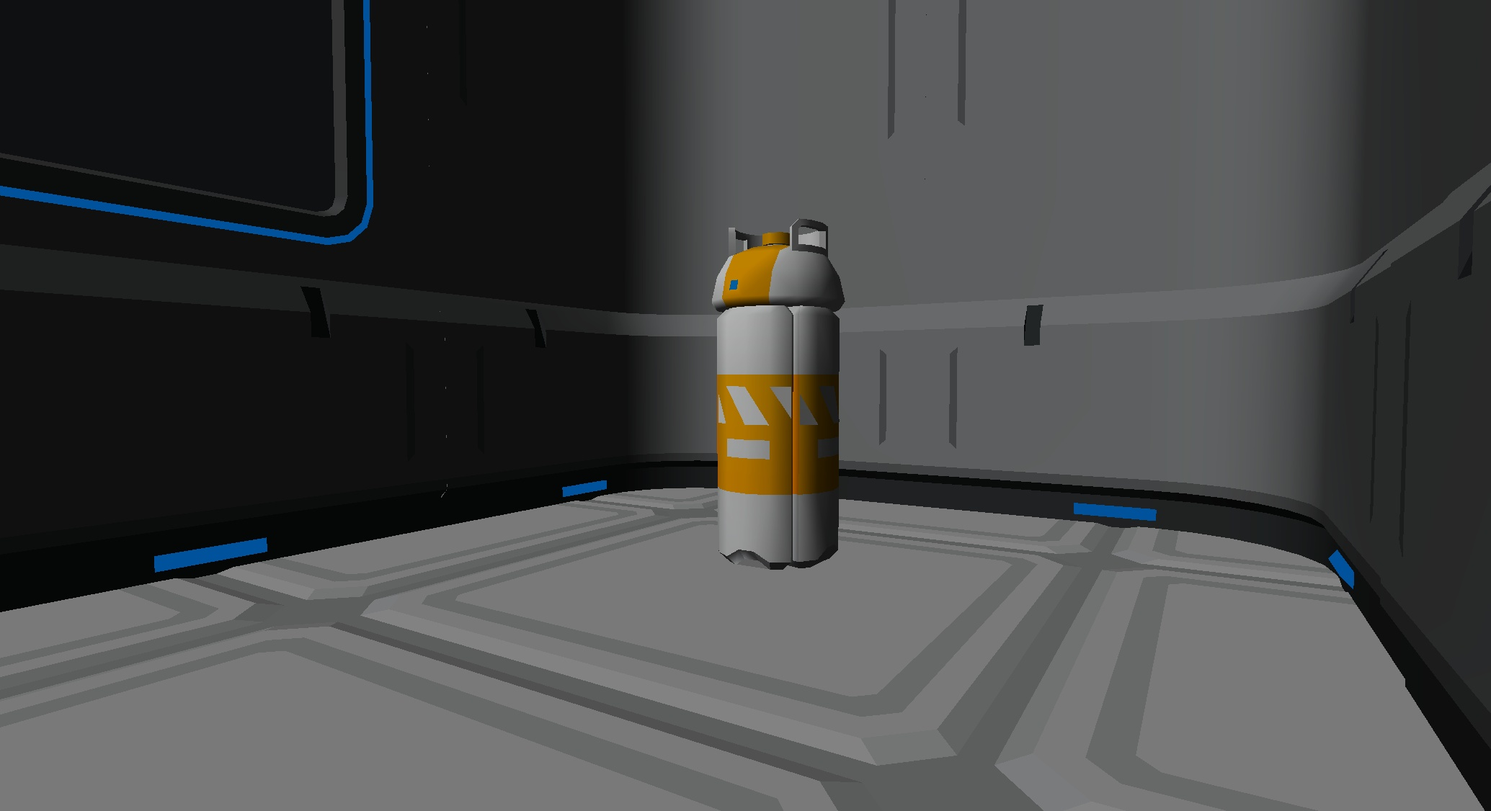yellow_barrel: (712, 219, 843, 568)
